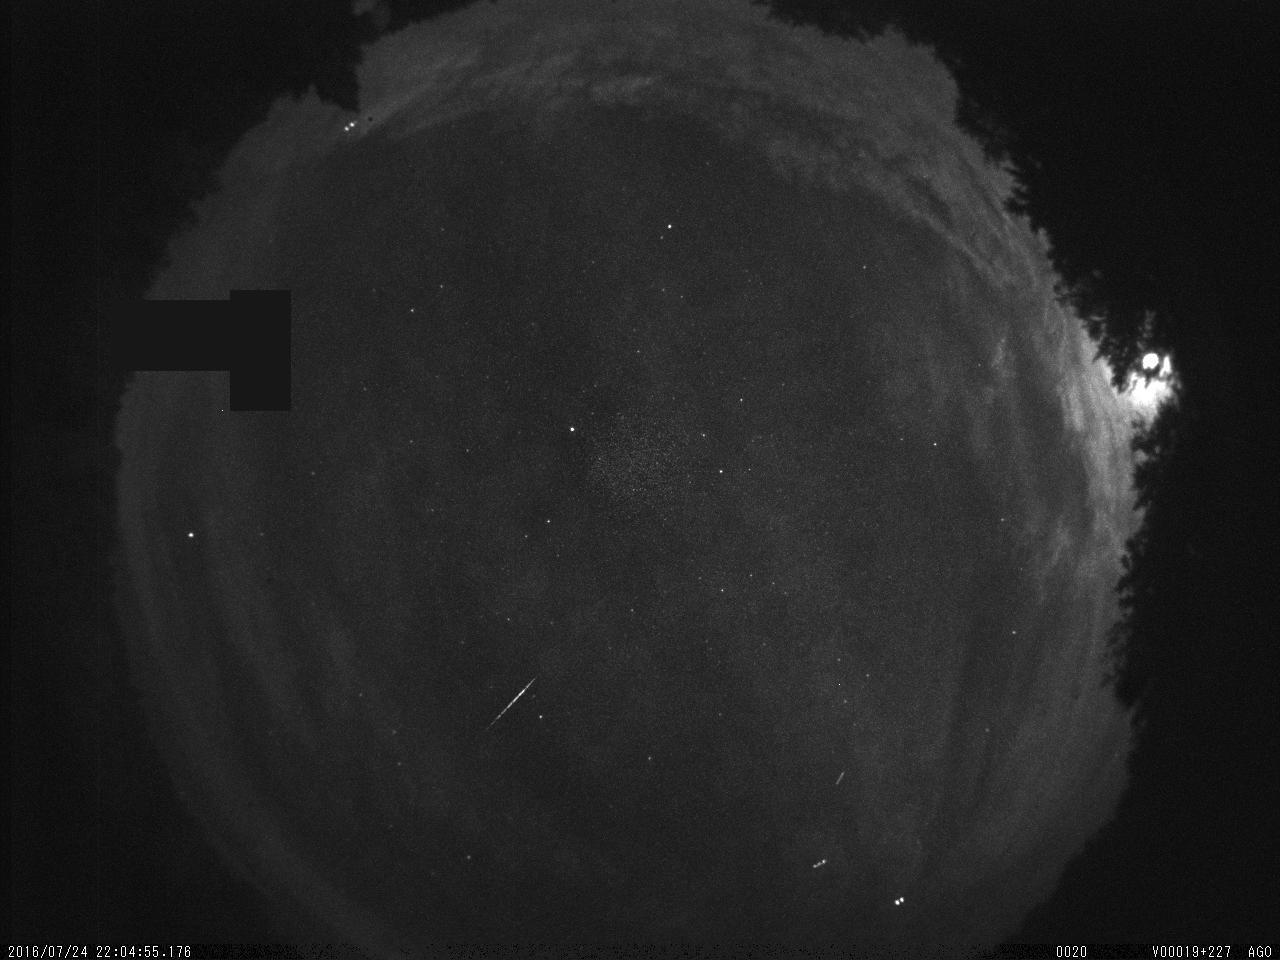meteor: (476, 670, 544, 732)
satelite: (809, 850, 832, 878), (891, 891, 910, 909)
